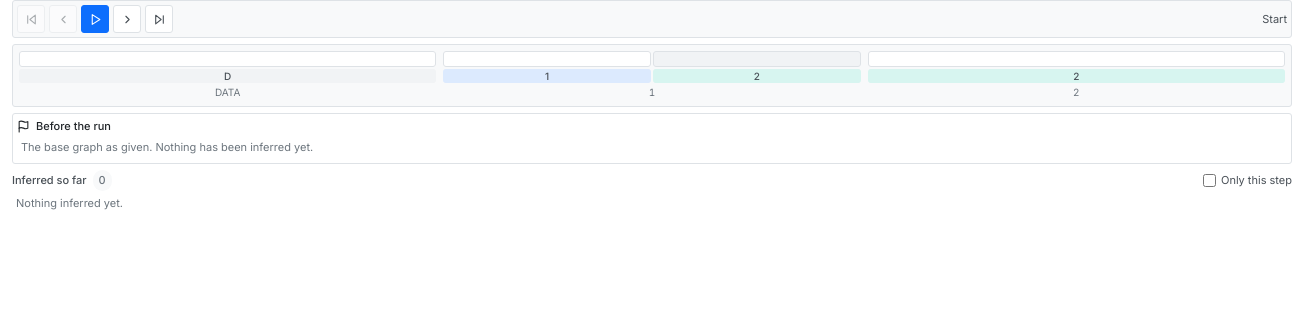
Test case: RuleSetExecutionReplay › keeps a rule that changed nothing as a step of its own
The width and height of the screenshot is (1304, 315).
Click the button with test id "replay-next" at (127, 19), box [113,5,141,33]
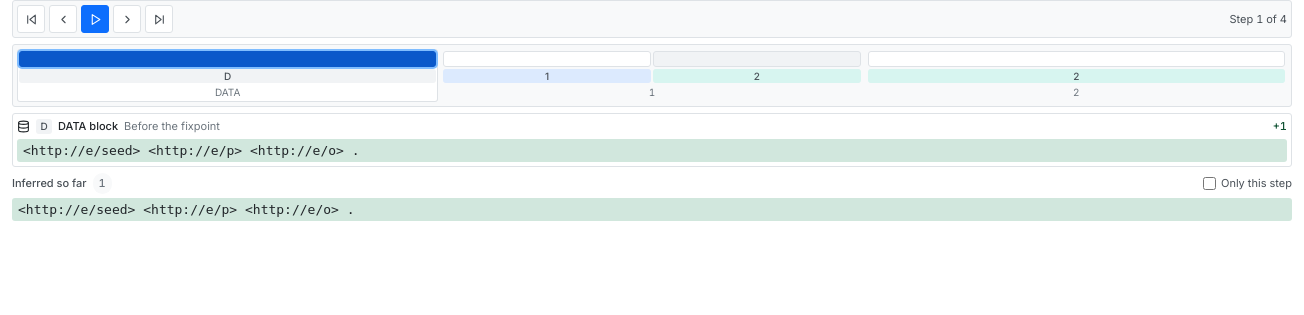
Click the button with test id "replay-next" at (127, 19), box [113,5,141,33]
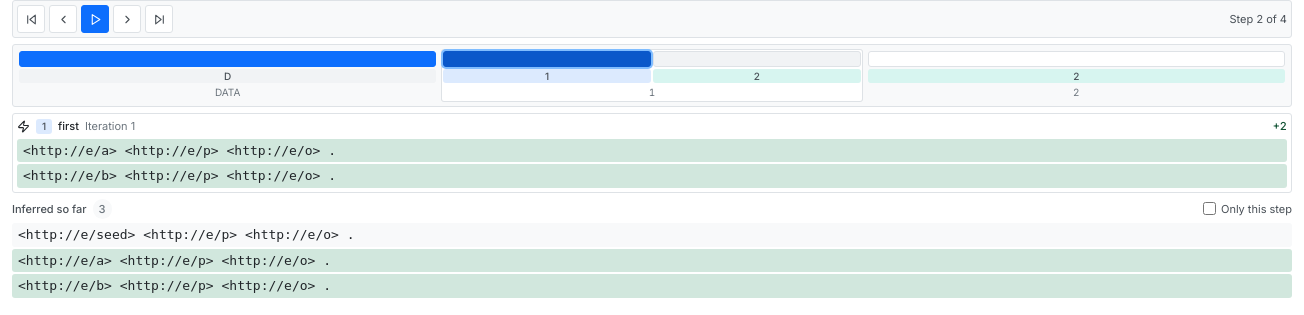
Click the button with test id "replay-next" at (127, 19), box [113,5,141,33]
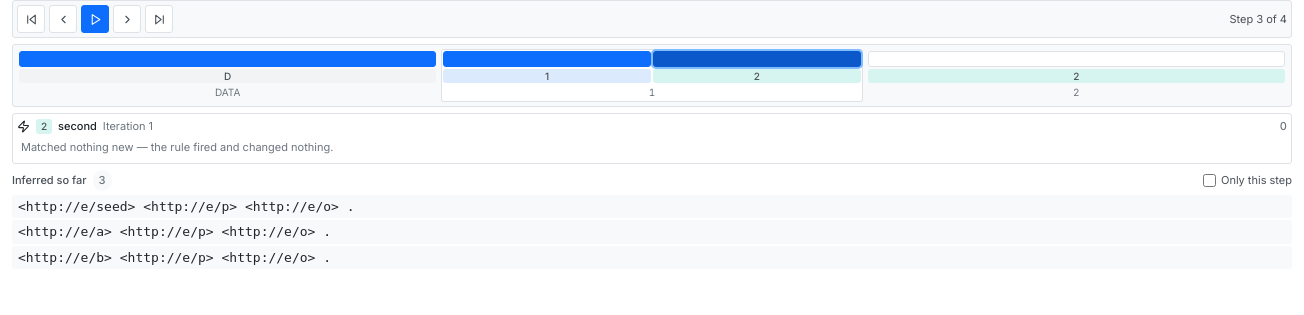
Check: the element with test id "replay-current" shows "second", box [58,119,97,133]
Check: the element with test id "replay-current" shows "Matched nothing new", box [21,140,333,154]
